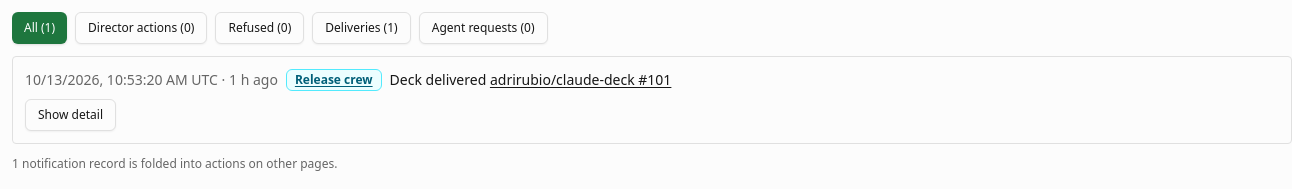
Test: ActivityFeed › says when no row matches the filter and when notifications had no parent
Expected: the text "1 notification record is folded into actions on other pages." is shown, [12, 155, 338, 172]
Click the button "Refused (0)". click: coordinates (260, 28)
box: [215, 12, 304, 44]
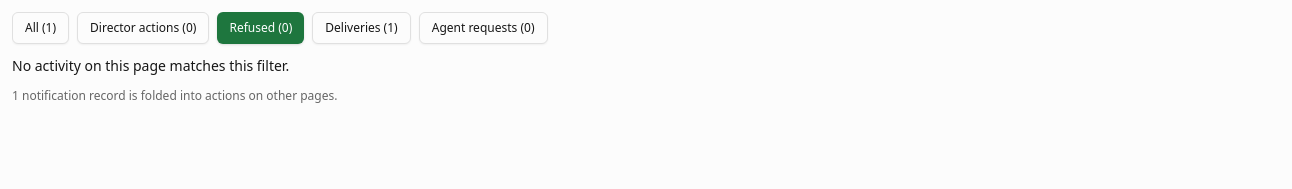
Now the text "No activity on this page matches this filter." is shown, box [12, 56, 289, 75]
